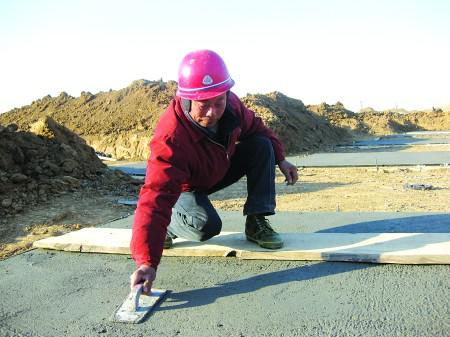helmet: (170, 43, 237, 127)
